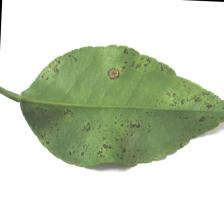canker: (50, 55, 197, 159)
